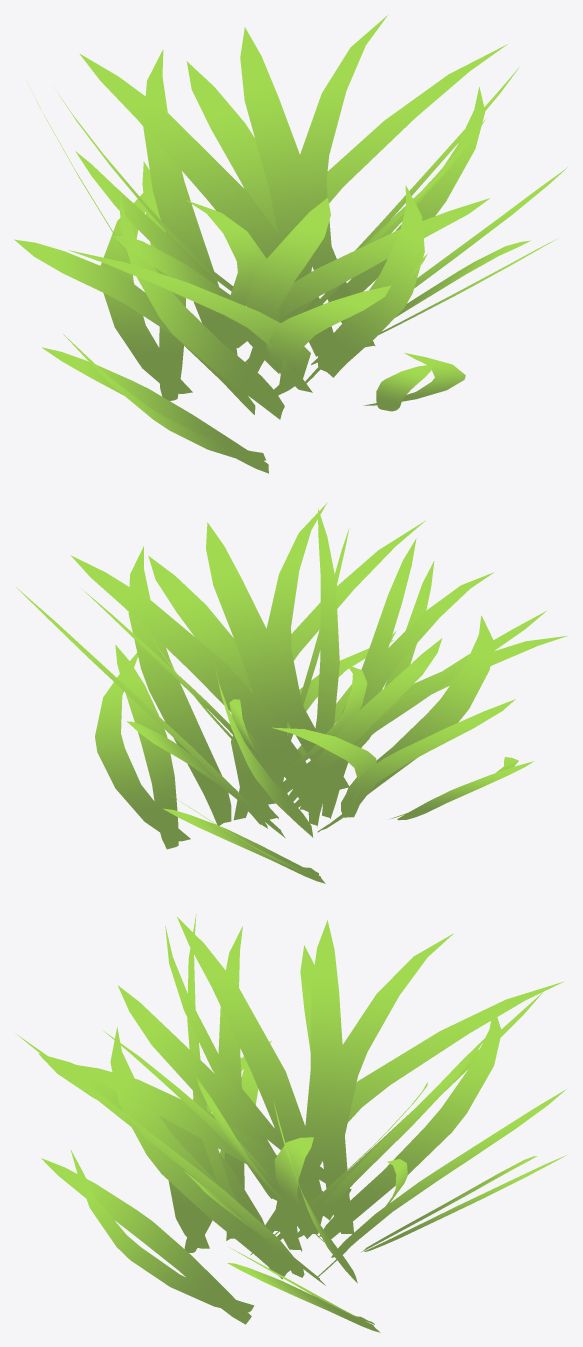
Rendered from SM_detail_grassS_E_LOD0.FBX.
3 views of the same model, one above another, from view 1: azimuth 30°, elevation 25°; view 2: azimuth 150°, elevation 25°; view 3: azimuth 270°, elevation 25° (orthographic). The views are drawn at different scales.
Parts seen in each view (by area): view 1: SM_detail_grassM_E_LOD0; view 2: SM_detail_grassM_E_LOD0; view 3: SM_detail_grassM_E_LOD0.
Boxes of the visible parts, x1,y1,x2,y2 form: SM_detail_grassM_E_LOD0: (14,14,567,473); SM_detail_grassM_E_LOD0: (16,502,567,883); SM_detail_grassM_E_LOD0: (15,914,566,1332).
Size of the model in its own units: 169 by 90.33 by 159.
1 material, 1 textured.
